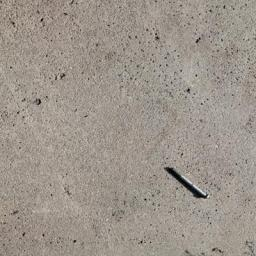FOD: (165, 164, 212, 205)
